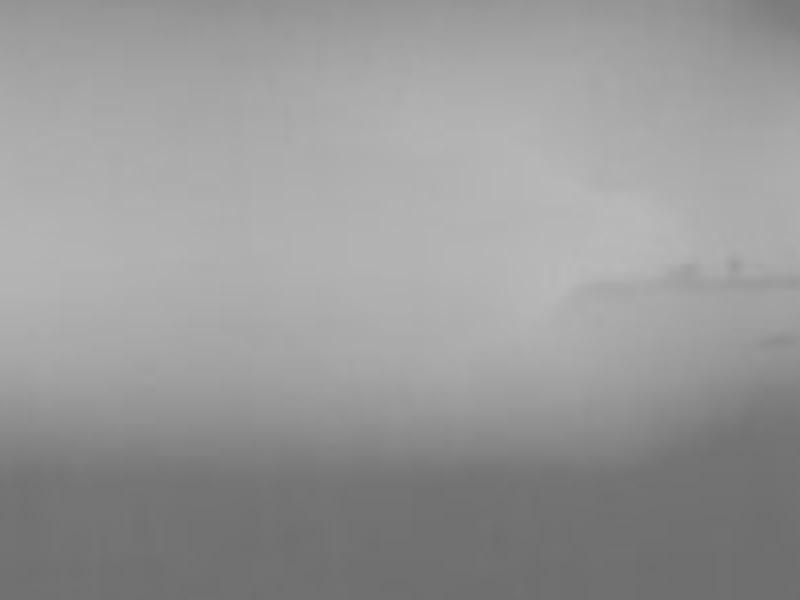defect: (668, 259, 702, 287), (725, 254, 745, 276)
